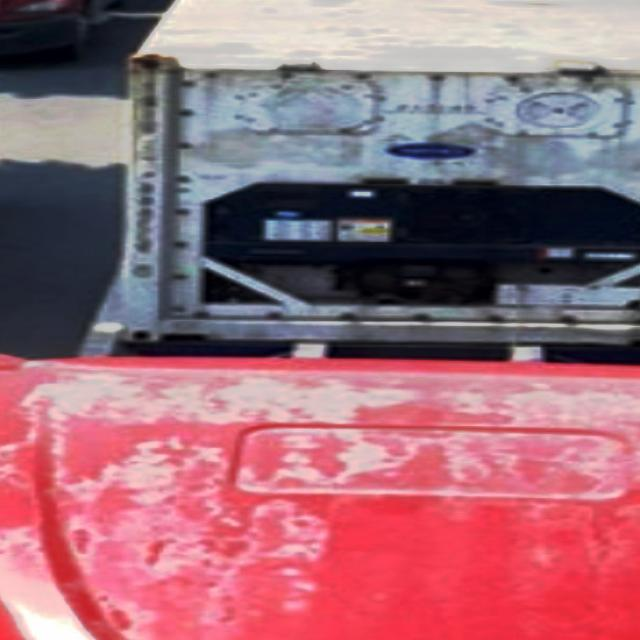Car: (0, 0, 640, 640), (0, 0, 140, 61)
